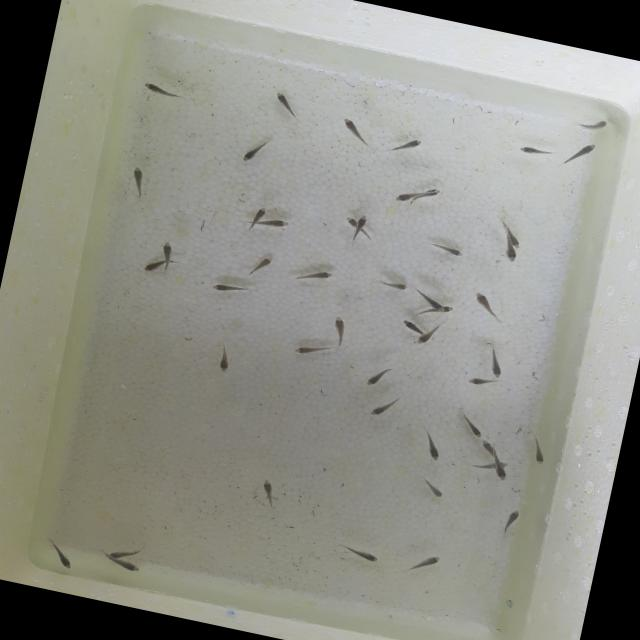fingerling: (266, 89, 310, 122), (334, 114, 376, 146), (292, 262, 336, 290), (480, 342, 512, 380), (206, 338, 238, 376), (524, 434, 555, 470), (104, 554, 148, 578), (566, 138, 598, 169), (408, 289, 449, 312), (291, 338, 330, 362), (470, 292, 502, 321), (388, 133, 425, 158), (367, 274, 408, 296), (372, 393, 404, 421), (498, 218, 528, 247), (326, 314, 354, 345), (422, 300, 461, 322), (242, 136, 271, 165), (138, 79, 180, 99), (103, 542, 143, 563), (454, 414, 486, 440), (44, 542, 76, 568), (480, 460, 518, 480), (155, 238, 178, 271), (250, 251, 276, 279), (426, 239, 464, 258), (412, 550, 442, 574), (344, 546, 381, 565), (419, 435, 444, 463), (208, 280, 246, 298), (390, 187, 421, 209), (416, 323, 442, 349), (362, 366, 388, 392), (246, 203, 270, 230), (518, 144, 556, 160), (262, 214, 294, 233), (580, 116, 610, 136), (474, 438, 504, 458), (422, 478, 448, 500), (127, 165, 148, 192), (257, 480, 281, 503), (501, 240, 523, 264), (501, 504, 522, 529), (144, 257, 168, 278), (399, 316, 424, 334), (464, 375, 492, 390), (352, 212, 371, 231)
